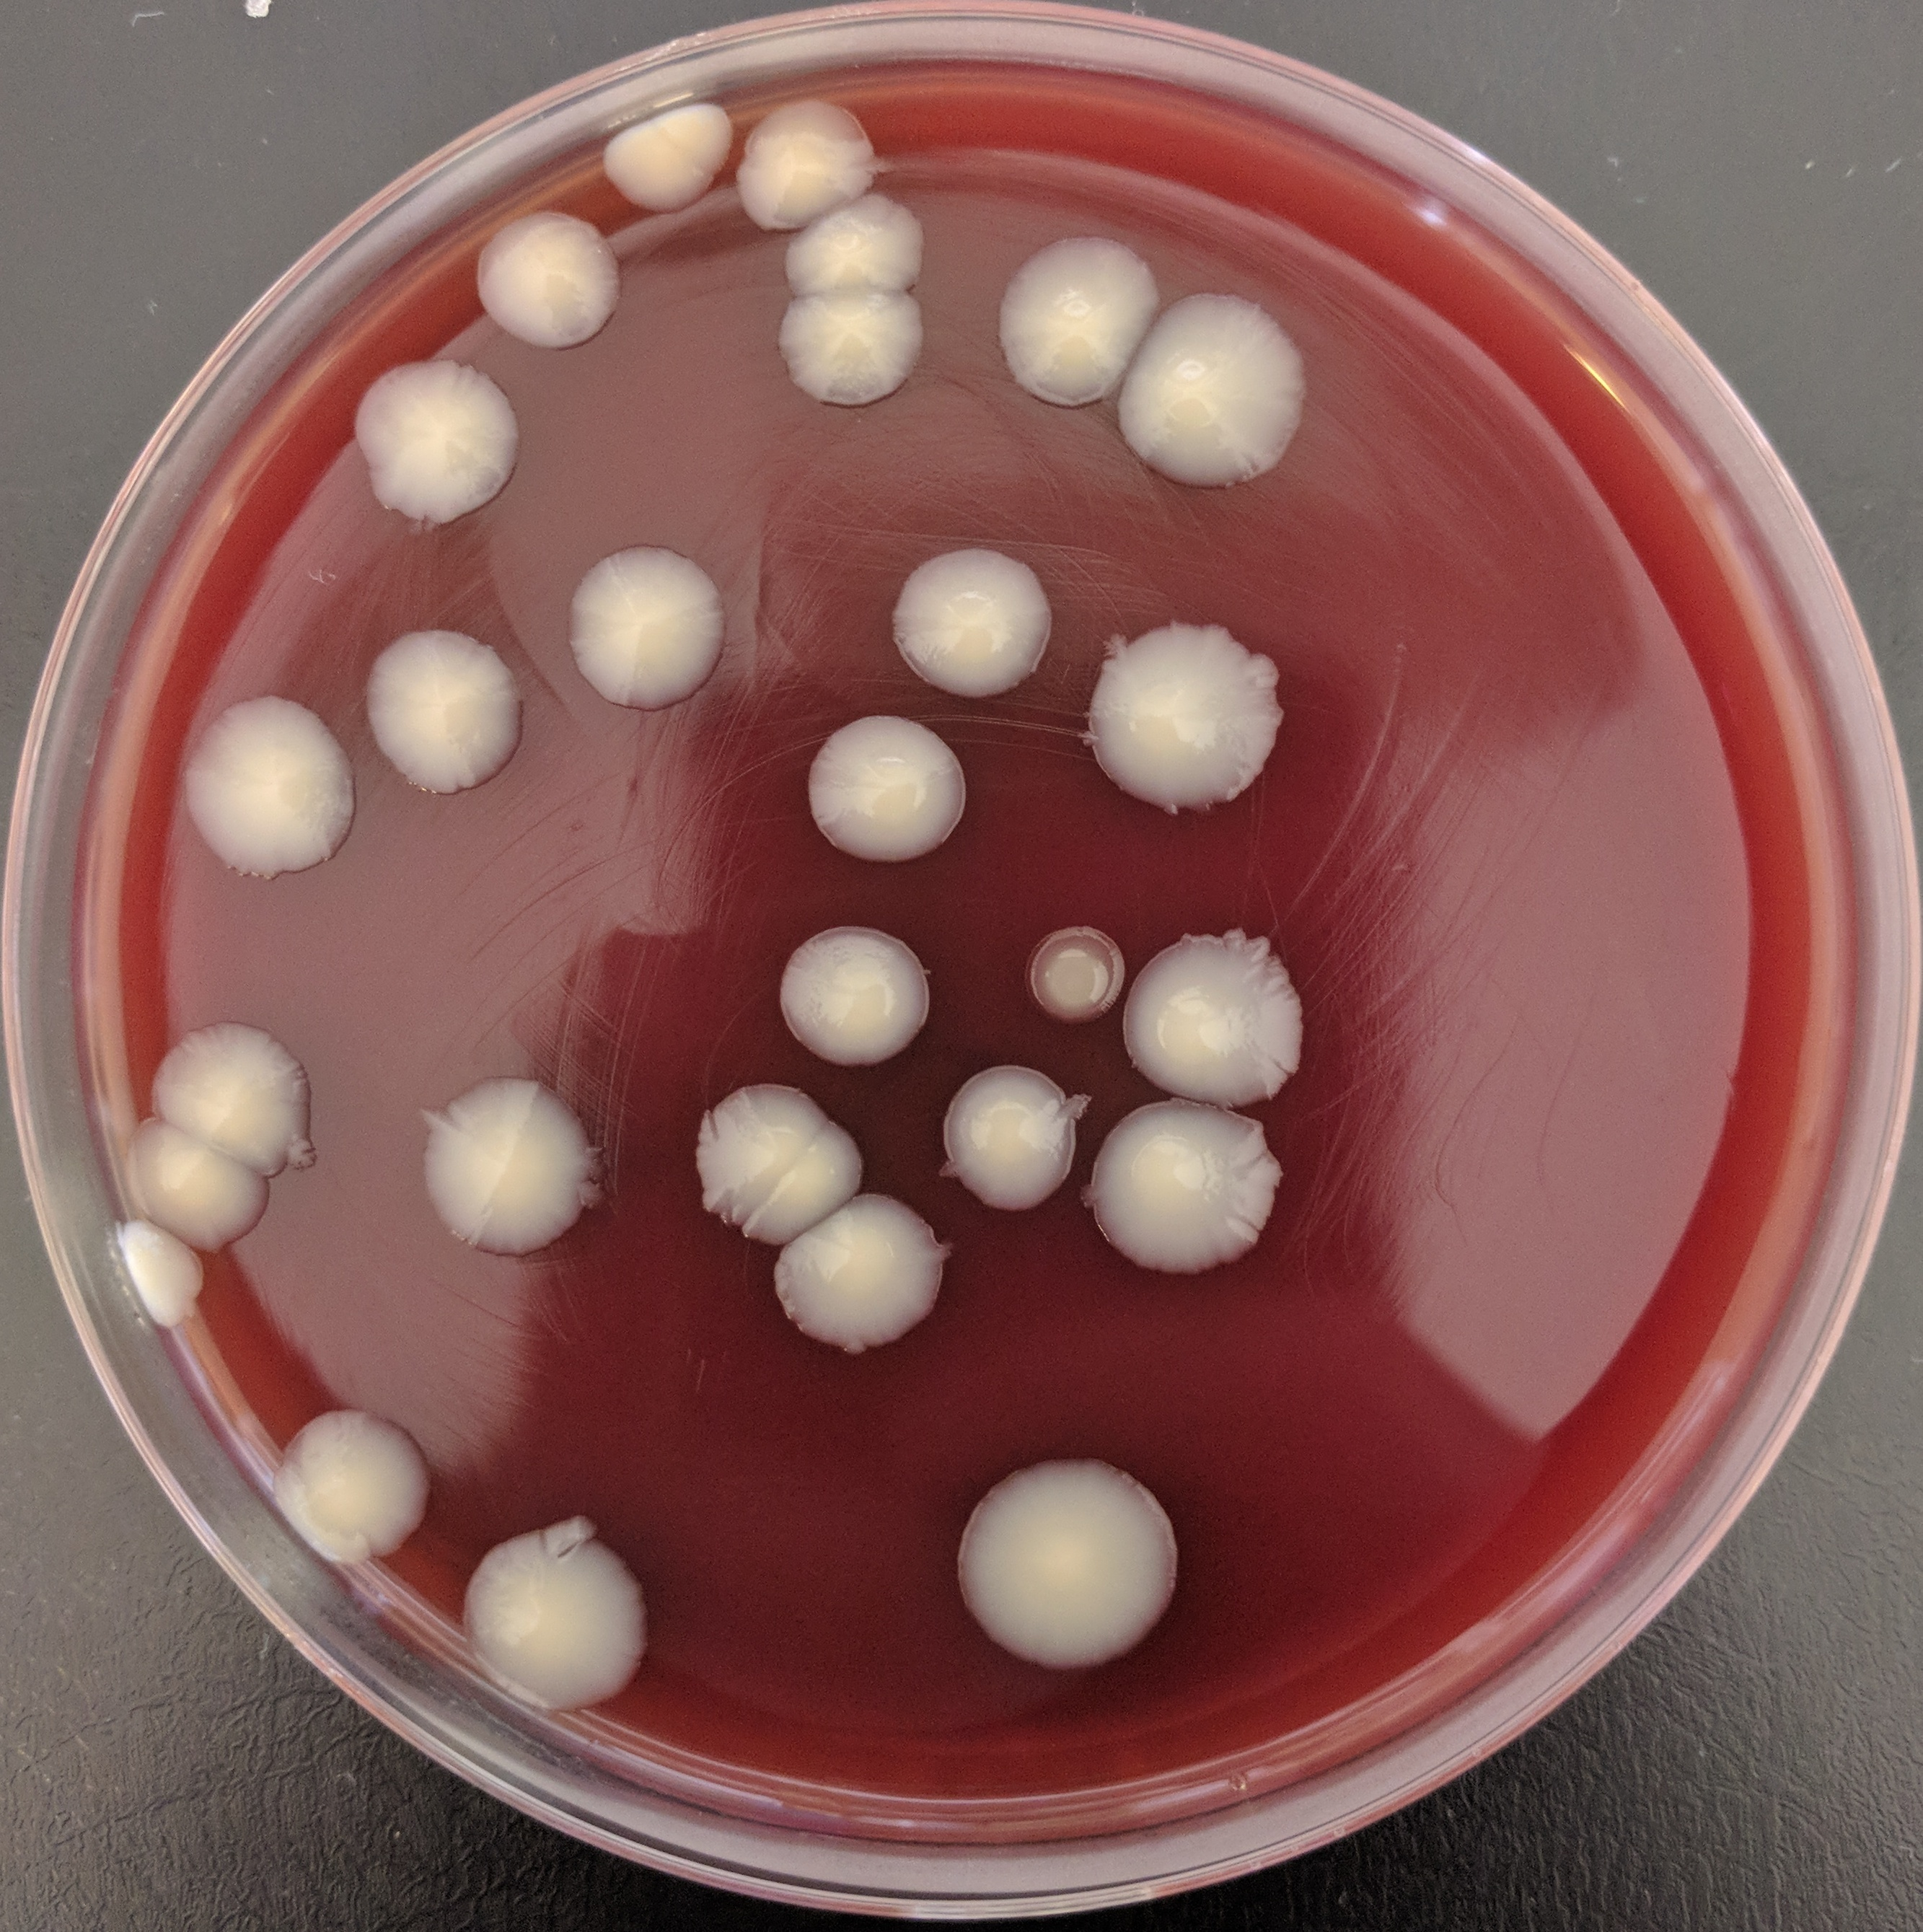sp05: (953, 1451, 1185, 1680), (463, 1506, 666, 1740), (1085, 613, 1286, 819), (176, 676, 359, 889), (1115, 289, 1310, 486), (419, 1069, 611, 1261), (1092, 1099, 1293, 1277), (347, 343, 537, 530), (1125, 930, 1305, 1106), (572, 535, 729, 731), (993, 227, 1159, 410), (368, 622, 535, 801), (273, 1397, 435, 1578), (773, 1187, 949, 1353), (150, 1011, 324, 1175), (805, 710, 976, 865), (472, 192, 625, 363), (886, 548, 1055, 701), (778, 925, 944, 1071), (939, 1058, 1085, 1213), (120, 1113, 275, 1259), (731, 95, 877, 231), (687, 1074, 824, 1217), (778, 291, 930, 409), (738, 1124, 868, 1256), (600, 99, 731, 213), (782, 192, 928, 292), (109, 1222, 210, 1338), (1028, 919, 1129, 1030)
